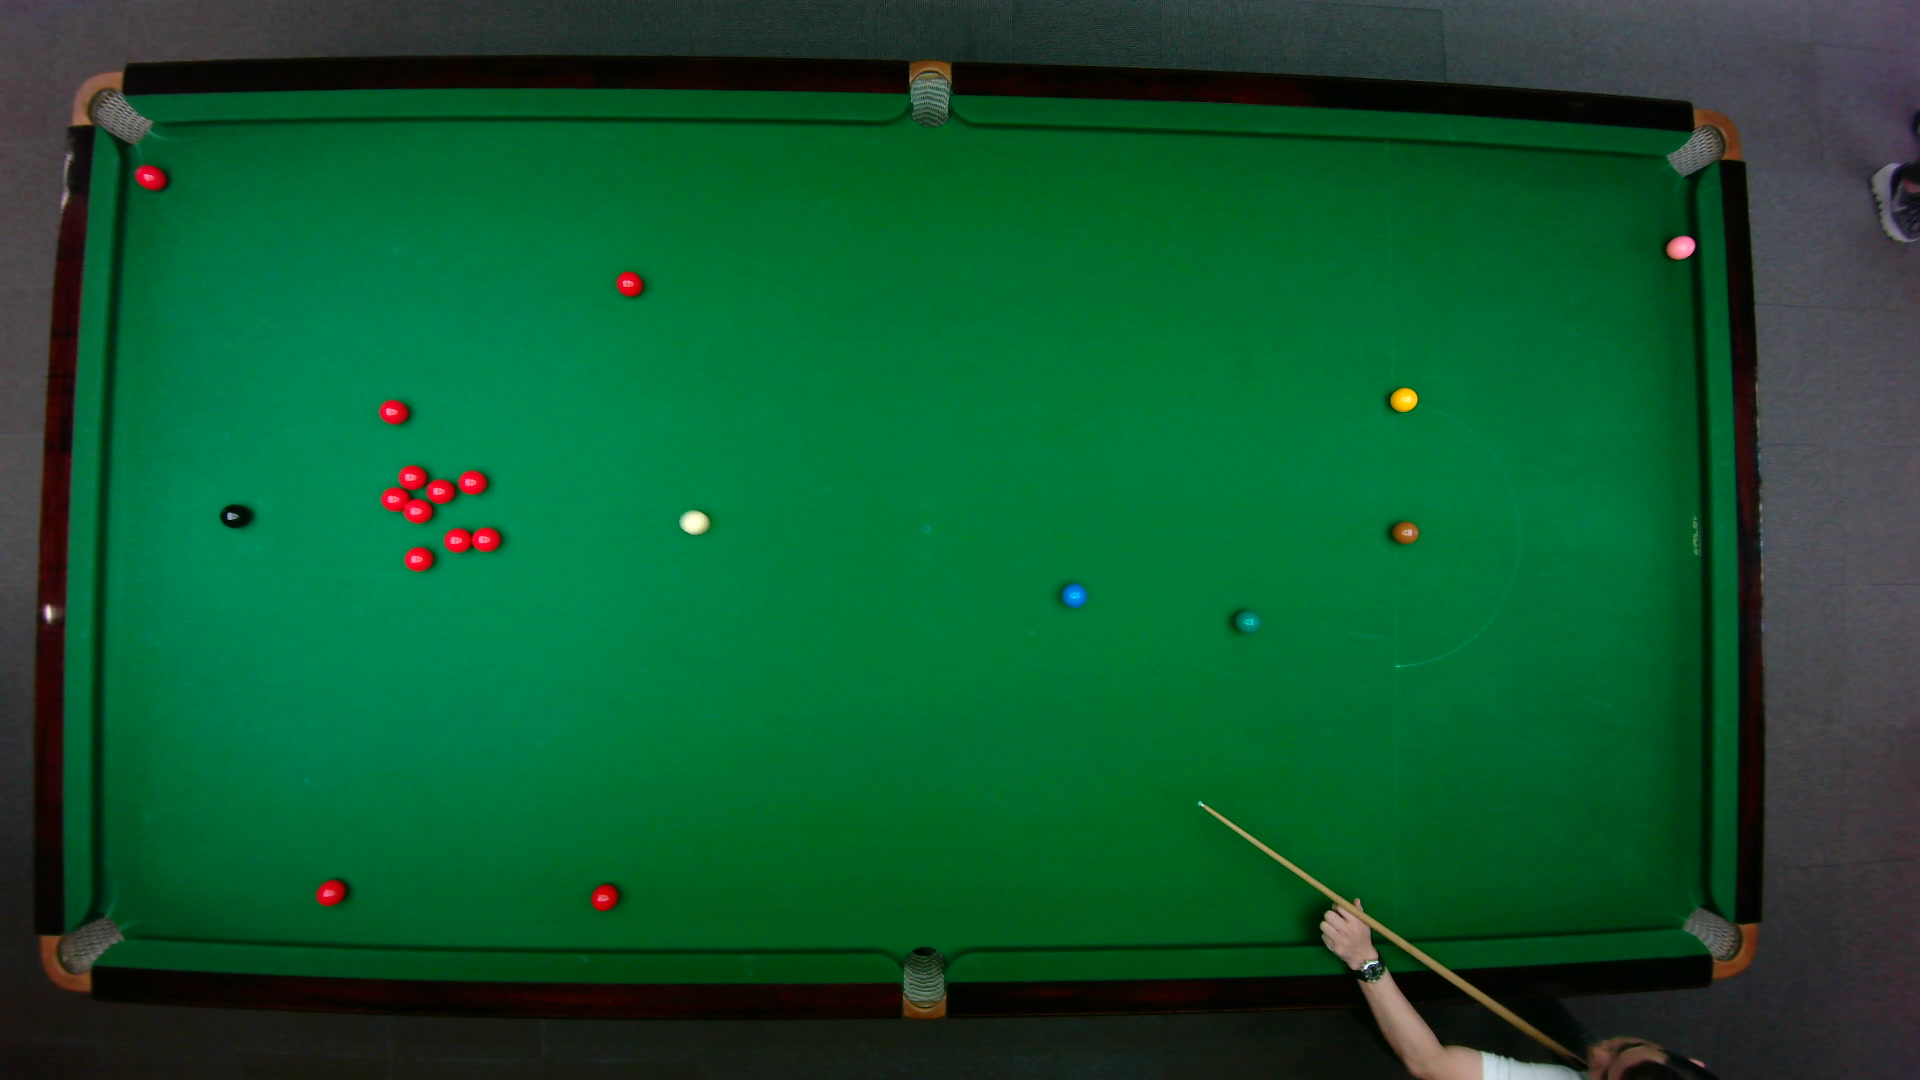bag: (38, 914, 125, 993), (69, 69, 153, 144), (1679, 905, 1758, 978), (1663, 107, 1741, 177), (901, 944, 945, 1021), (909, 57, 949, 128)
black: (218, 502, 251, 527)
blue: (1059, 582, 1088, 608)
brown: (1390, 520, 1419, 545)
cue: (1193, 800, 1585, 1069)
green: (1232, 608, 1261, 633)
pink: (1663, 232, 1697, 260)
red: (132, 162, 167, 191), (314, 877, 347, 906), (442, 525, 473, 554), (400, 496, 433, 524), (396, 463, 429, 491), (402, 545, 434, 572), (378, 484, 410, 512), (469, 525, 501, 553), (422, 477, 456, 502), (589, 882, 618, 911), (377, 398, 409, 425), (615, 269, 644, 297), (456, 468, 487, 495)
white: (676, 506, 709, 535)
yellow: (1389, 385, 1418, 411)
zone: (1390, 401, 1520, 666)
